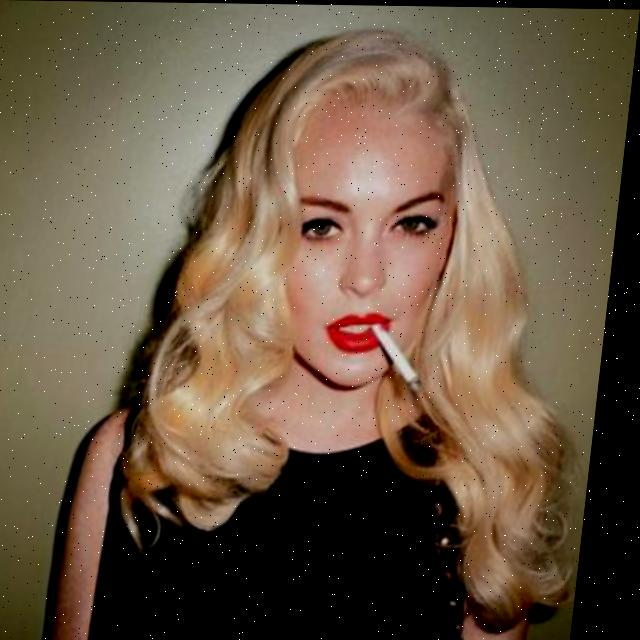cigarette: (372, 321, 436, 393)
